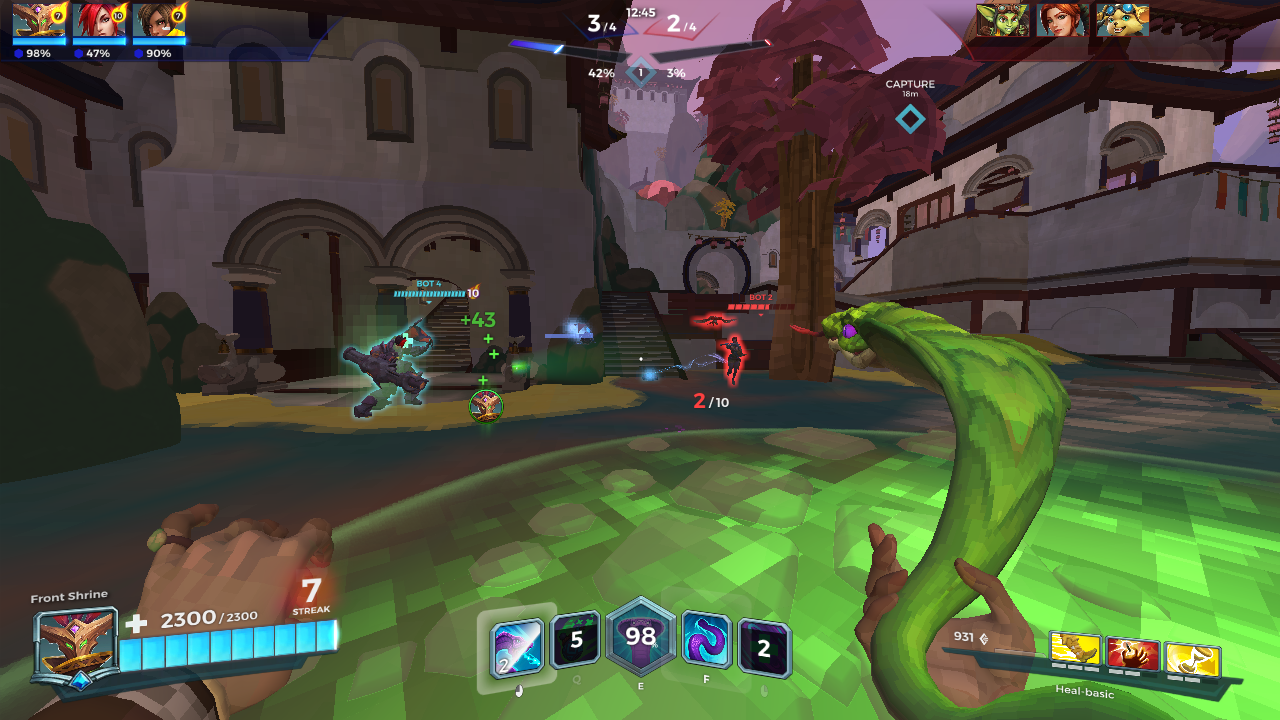model: (719, 330, 743, 377)
